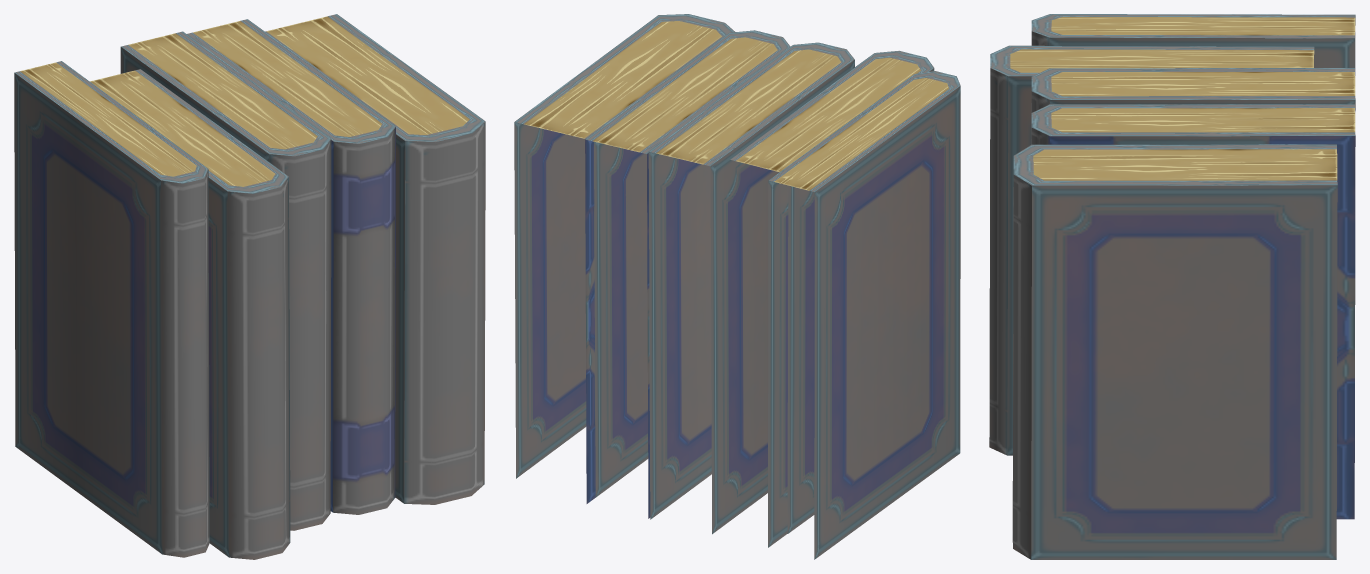
Rendered from BookGroup_Small_3.fbx.
3 renders of one model, left to right at view 1: azimuth 30°, elevation 25°; view 2: azimuth 150°, elevation 25°; view 3: azimuth 270°, elevation 25°, orthographic. The views are drawn at different scales.
Visible parts, largest first — view 1: BookGroup_Small_3; view 2: BookGroup_Small_3; view 3: BookGroup_Small_3.
Boxes of the visible parts, x1,y1,x2,y2 form: BookGroup_Small_3: (14,14,485,559); BookGroup_Small_3: (514,14,960,559); BookGroup_Small_3: (989,14,1355,559).
Size of the model in its own units: 24.48 by 27.74 by 23.72.
